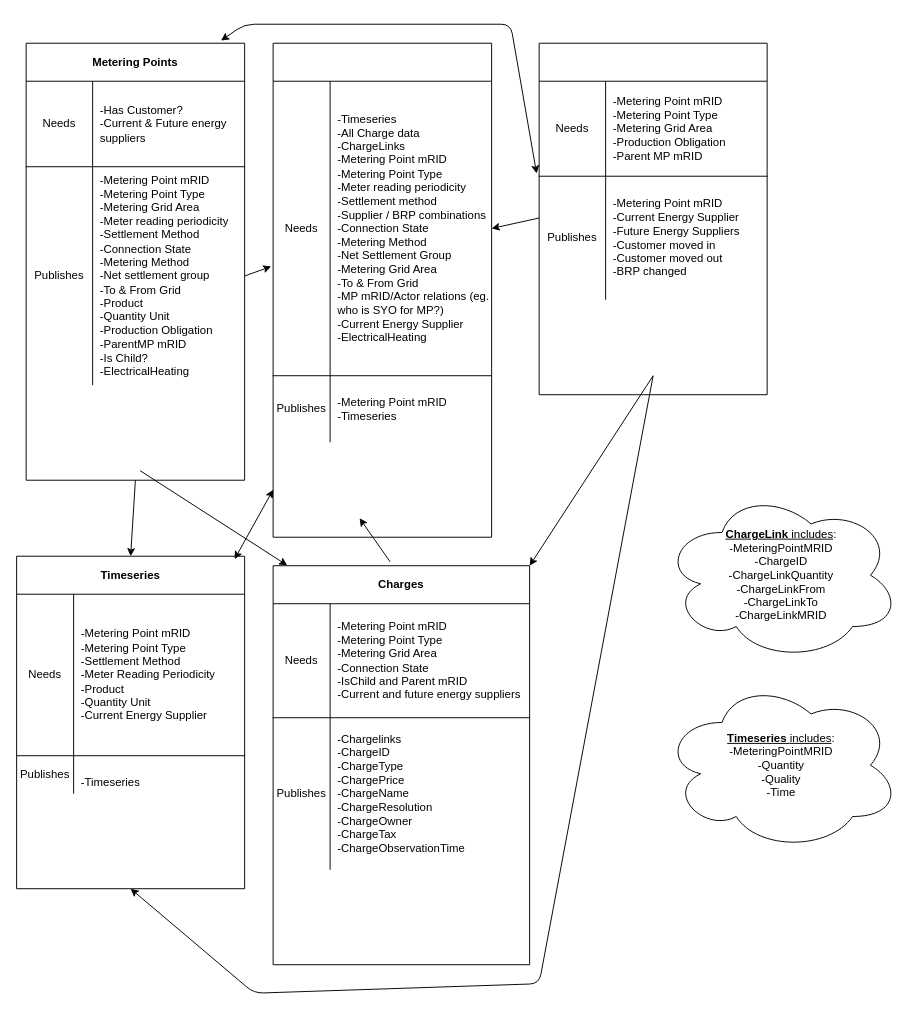
Some shapes in this 917 by 1017 pixel diagram are drawn without their labels. Here are the shapes that lost their labels. From the top down, the box of each, then its label:
(538, 42, 767, 395): Market Roles
(272, 42, 492, 537): Aggregations
